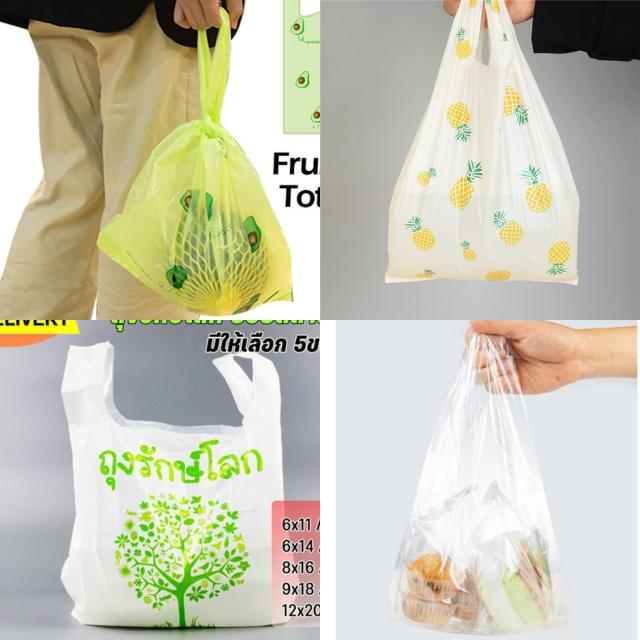Single-layer Plastic: (61, 342, 284, 628), (98, 11, 291, 316), (385, 0, 579, 284), (390, 334, 568, 634)
